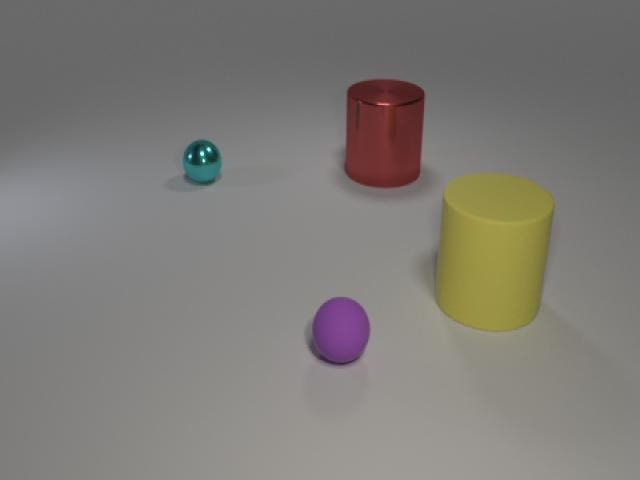cylinder: (431, 167, 559, 335), (334, 67, 430, 193)
round ball: (307, 292, 375, 371), (178, 134, 226, 191)
